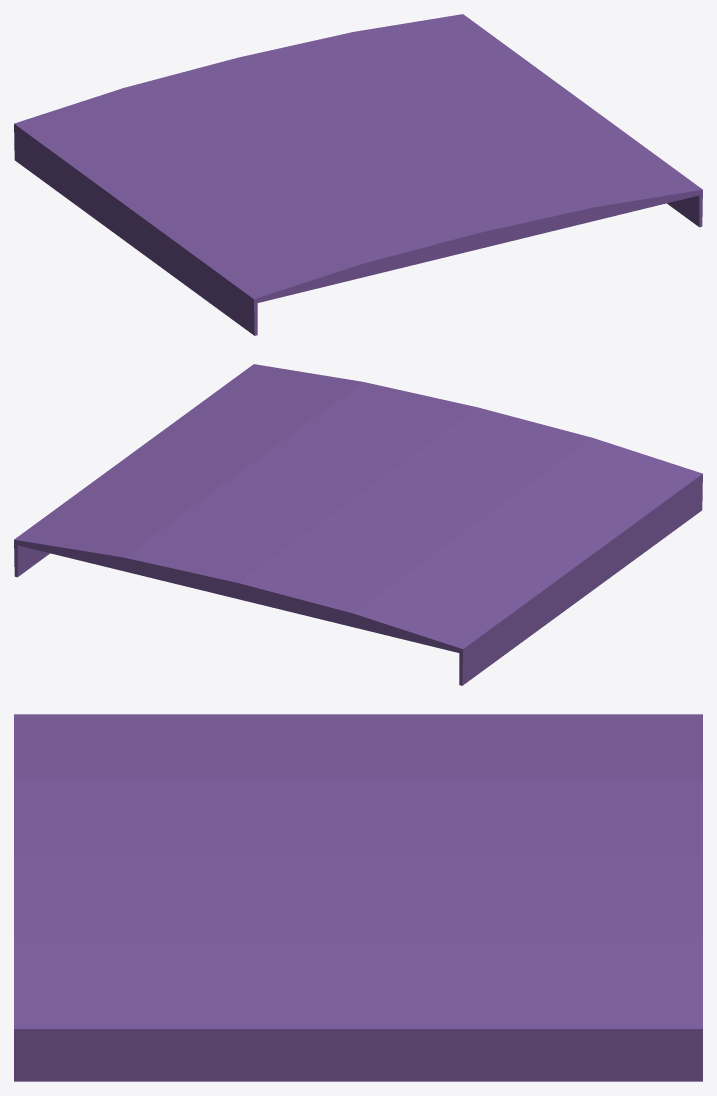
The model's file is Itr_Bed_Double_Blanket_15.FBX.
The picture shows the model from 3 angles, top to bottom: view 1: azimuth 30°, elevation 25°; view 2: azimuth 150°, elevation 25°; view 3: azimuth 270°, elevation 25°; orthographic projection. The views are drawn at different scales.
Visible parts, largest first — view 1: Itr_Bed_Double_Blanket_15; view 2: Itr_Bed_Double_Blanket_15; view 3: Itr_Bed_Double_Blanket_15.
Boxes of the visible parts, x1,y1,x2,y2 form: Itr_Bed_Double_Blanket_15: (14,14,702,335); Itr_Bed_Double_Blanket_15: (14,364,702,685); Itr_Bed_Double_Blanket_15: (14,714,702,1081).
Bounding box in the file's own units: 70.1 × 7.19 × 64.86.
